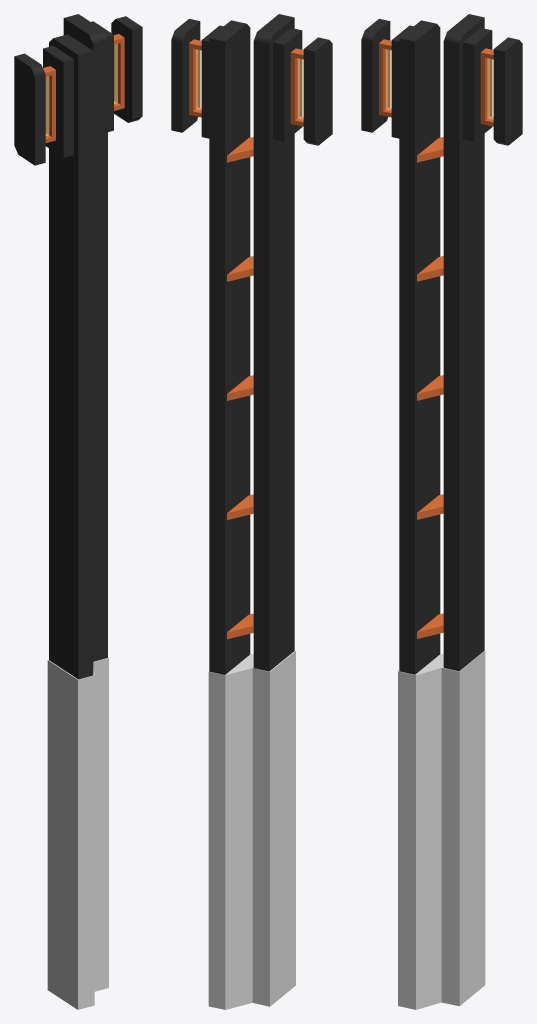
The model's file is powerline_tower_MESH.fbx.
3 renders of one model, left to right at view 1: azimuth 30°, elevation 25°; view 2: azimuth 150°, elevation 25°; view 3: azimuth 330°, elevation 25°, orthographic.
Parts seen in each view (by area): view 1: powerline_tower_MESH, powerline_tower_COL; view 2: powerline_tower_MESH, powerline_tower_COL; view 3: powerline_tower_MESH, powerline_tower_COL.
Part boxes in pixels (x1,y1,x2,y2): powerline_tower_MESH: (14,14,142,679); powerline_tower_COL: (47,657,108,1009); powerline_tower_MESH: (171,14,332,674); powerline_tower_COL: (208,650,295,1009); powerline_tower_MESH: (361,14,522,674); powerline_tower_COL: (398,650,485,1009).
Size of the model in its own units: 188 by 110 by 1354.
